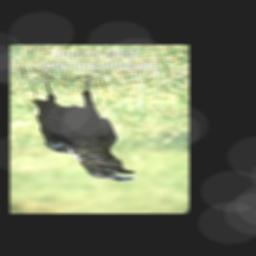Crow: (28, 71, 141, 184)
